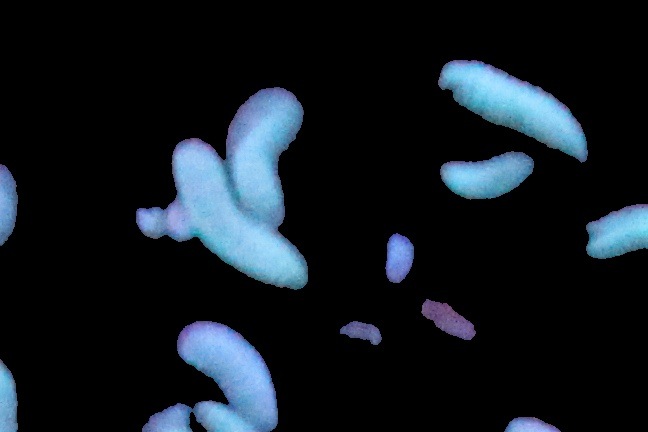larvae: (172, 140, 308, 290), (447, 57, 595, 165), (222, 86, 310, 222), (177, 321, 278, 428), (439, 159, 541, 199), (582, 205, 648, 260), (1, 163, 20, 278), (191, 401, 252, 432)
